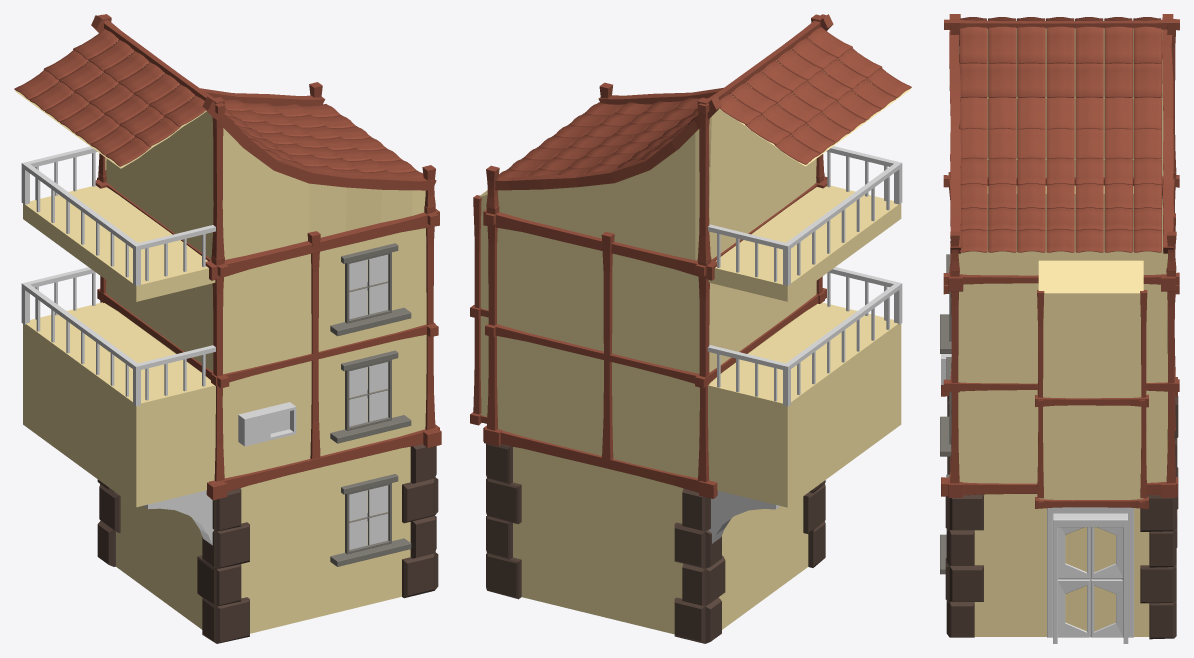
Rendered from house_2.fbx.
3 renders of one model, left to right at view 1: azimuth 30°, elevation 25°; view 2: azimuth 150°, elevation 25°; view 3: azimuth 270°, elevation 25°, orthographic. The views are drawn at different scales.
Parts seen in each view (by area): view 1: haus_base, Plane.009, Plane.001, steine2.002, steine.002, Plane.008, Plane.007, Cube.049, Cube.020, Cube.011, Cube.007, Cube.019 (+20 smaller); view 2: haus_base, Plane.009, Plane.001, steine2, steine, Plane.008, Plane.007, Cube.050, Cube.011, Cube.022, Cube.007, Cube.021 (+15 smaller); view 3: haus_base, vorbau, Plane.005, Plane.006, Plane.007, Plane.008, tür, steine.002, steine, Plane.001, Cube.050, Cube.049 (+19 smaller).
Part boxes in pixels (x1,y1,x2,y2): haus_base: (23, 111, 426, 633); Plane.009: (14, 28, 205, 166); Plane.001: (15, 41, 425, 259); steine2.002: (197, 488, 249, 643); steine.002: (402, 444, 438, 598); Plane.008: (272, 103, 423, 177); Plane.007: (224, 99, 366, 175); Cube.049: (202, 96, 436, 190); Cube.020: (205, 209, 439, 280); Cube.011: (21, 146, 215, 285); Cube.007: (21, 267, 215, 406); Cube.019: (209, 424, 439, 491); haus_base: (497, 109, 901, 634); Plane.009: (719, 27, 911, 164); Plane.001: (498, 49, 910, 260); steine2: (674, 488, 725, 643); steine: (486, 443, 521, 599); Plane.008: (498, 102, 652, 177); Plane.007: (557, 97, 707, 174); Cube.050: (487, 96, 721, 190); Cube.011: (708, 146, 902, 285); Cube.022: (483, 209, 716, 280); Cube.007: (707, 267, 902, 406); Cube.021: (483, 425, 714, 492); haus_base: (958, 29, 1167, 636); vorbau: (1038, 260, 1143, 500); Plane.005: (959, 26, 1161, 97); Plane.006: (959, 97, 1161, 158); Plane.007: (960, 158, 1161, 208); Plane.008: (959, 208, 1161, 252); tür: (1047, 507, 1133, 643); steine.002: (945, 494, 983, 637); steine: (1140, 495, 1176, 639); Plane.001: (958, 32, 1167, 275); Cube.050: (1162, 14, 1173, 253); Cube.049: (949, 14, 960, 253).
Size of the model in its own units: 700 by 1060 by 443.
